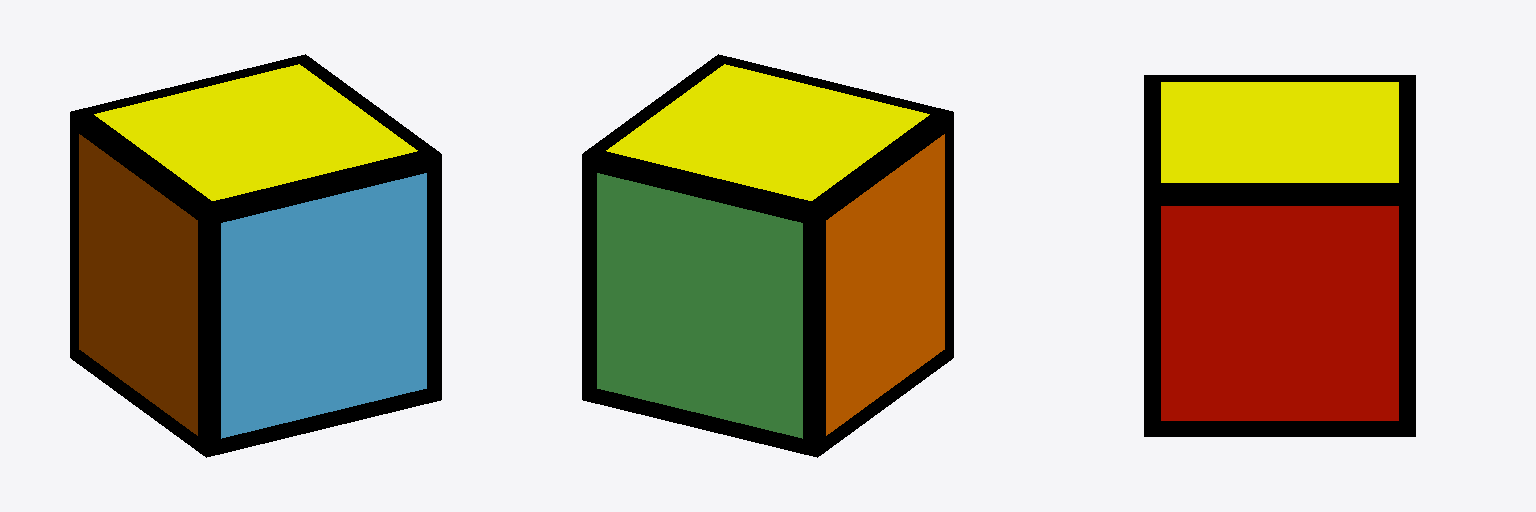
3 renders of one model, left to right at view 1: azimuth 30°, elevation 25°; view 2: azimuth 150°, elevation 25°; view 3: azimuth 270°, elevation 25°, orthographic.
Parts seen in each view (by area): view 1: cube; view 2: cube; view 3: cube.
Boxes of the visible parts, box(x1,y1,x2,y2) form: cube: box(70, 54, 441, 457); cube: box(582, 54, 953, 457); cube: box(1144, 75, 1415, 436).
Size of the model in its own units: 1 by 1 by 1.
1 materials, 1 textured.